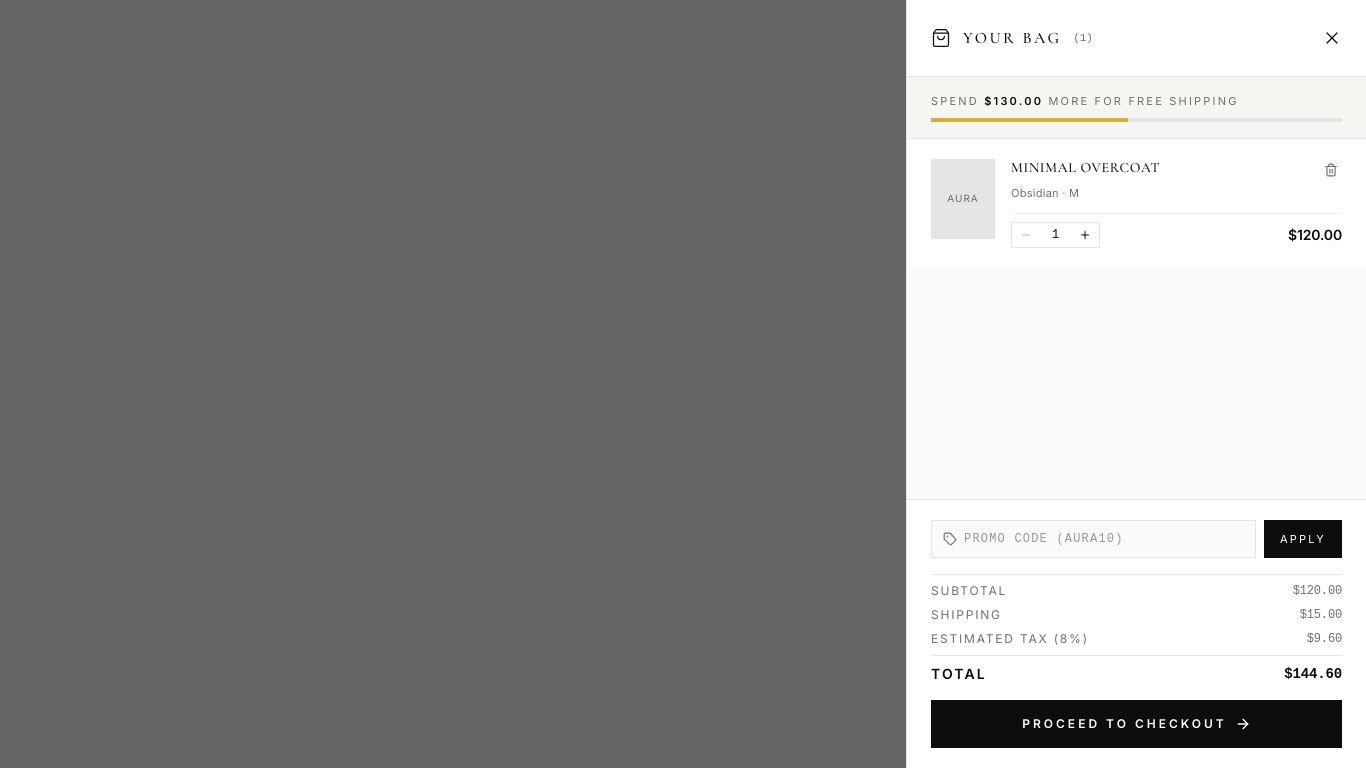
Test: CartDrawer › removes an item when trash button is clicked
Click the button named "Remove Minimal Overcoat": (1331,170) 1320,158 -> 1342,180
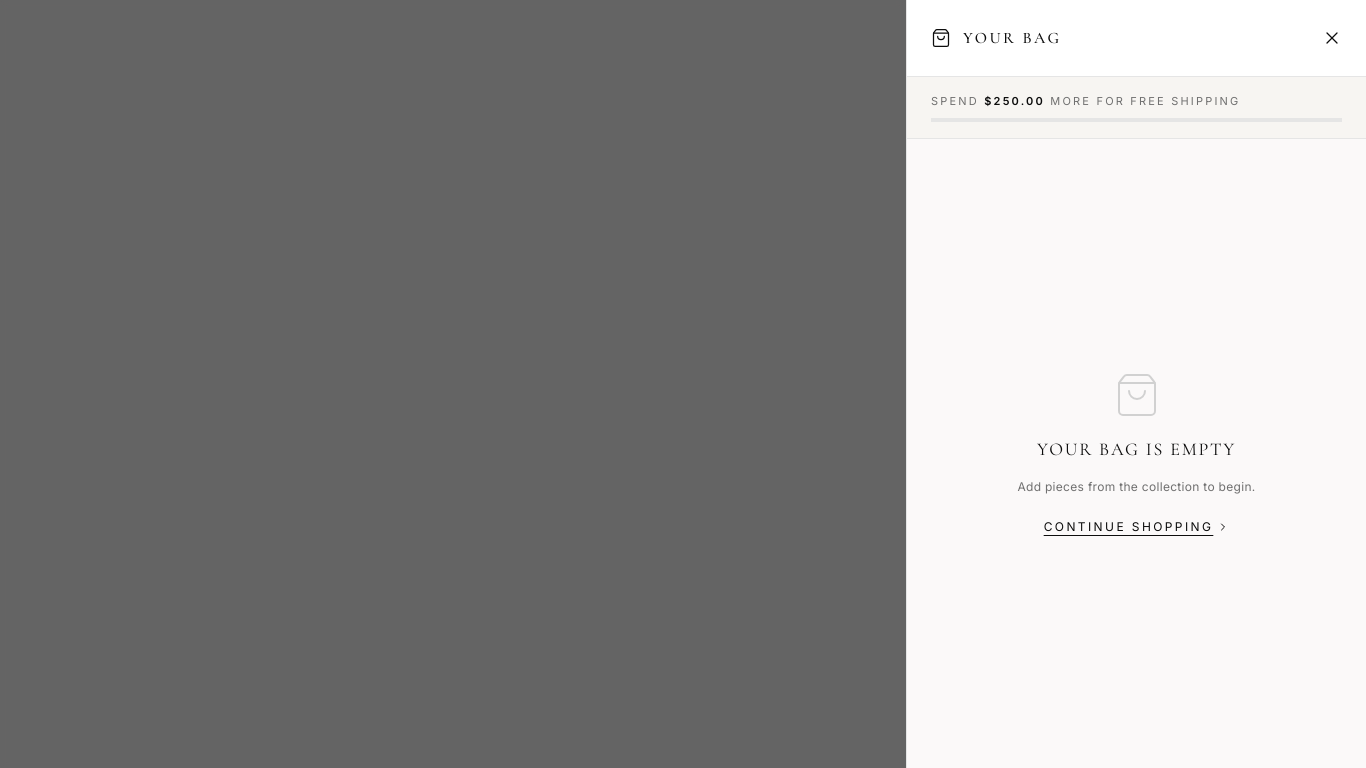
Check: the element with test id "cart-empty" is shown, box 1017,371 -> 1256,535
